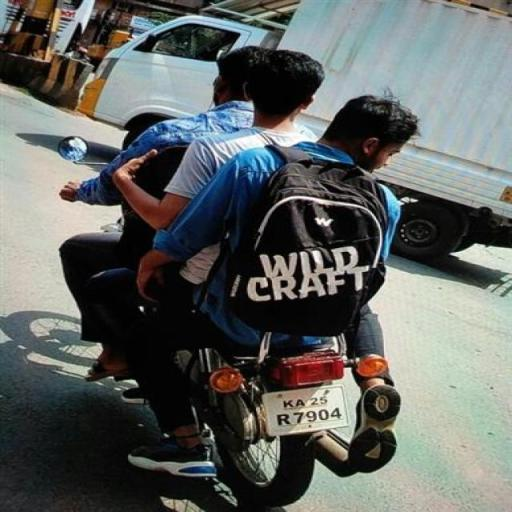tripple riding: (47, 42, 424, 336)
